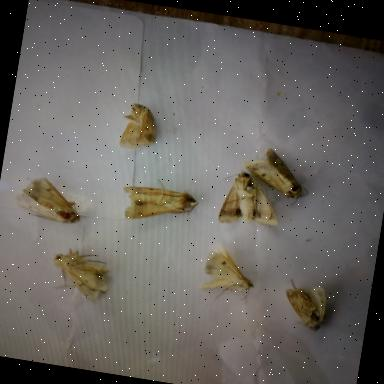abw: (239, 144, 315, 208), (119, 173, 202, 228), (216, 168, 285, 231), (198, 242, 260, 306), (14, 172, 88, 225), (46, 244, 112, 302), (280, 278, 332, 332), (118, 100, 160, 152)
